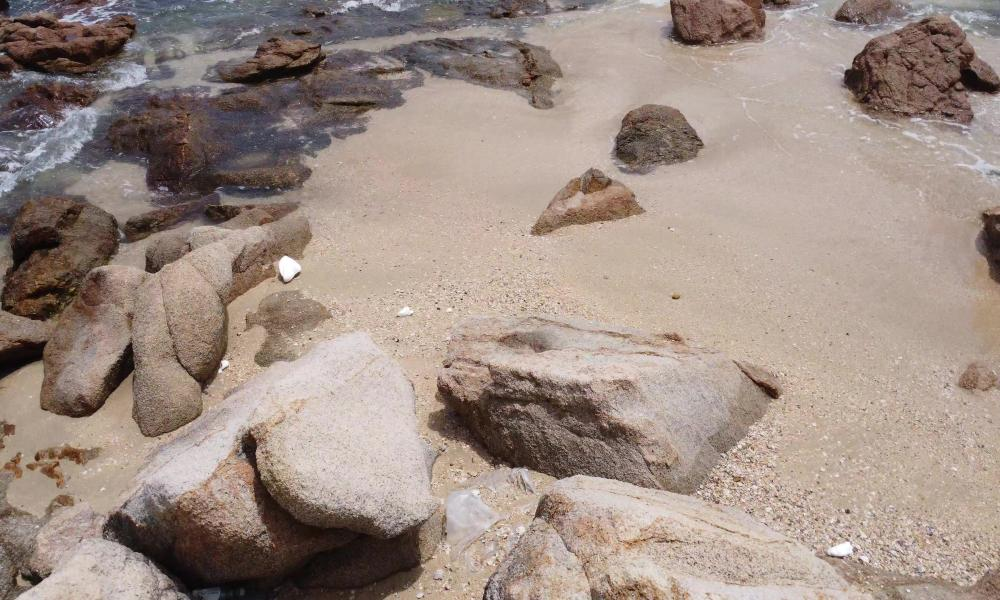styrofoam: (823, 535, 859, 570), (275, 247, 302, 282), (398, 302, 413, 322)
